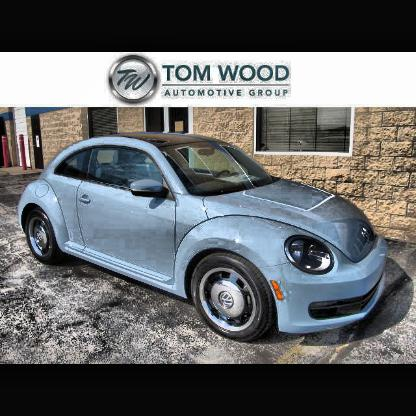Volkswagen Beetle Hatchback 2012: (22, 135, 389, 343)
